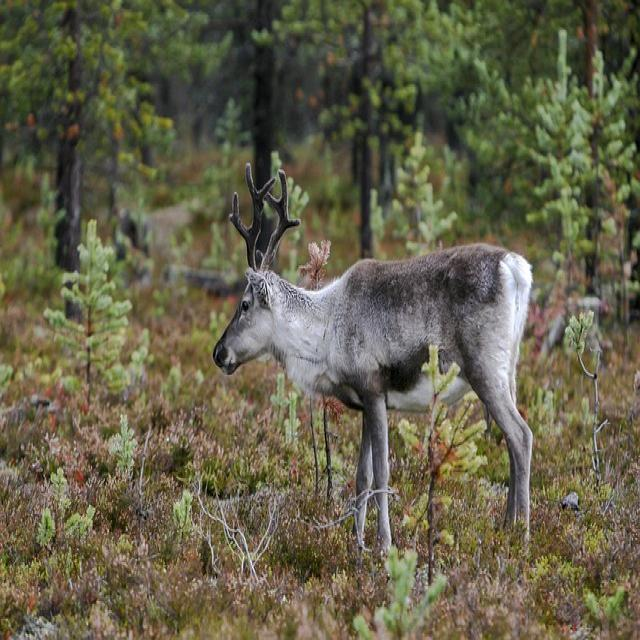Reindeer: (214, 164, 535, 558)
